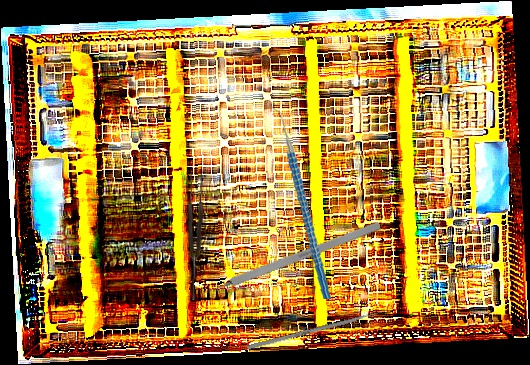Chopper: (248, 104, 348, 300)
Hook Surgical: (195, 221, 382, 300)
Pusher: (246, 306, 394, 351)
Tissue Forceps: (184, 172, 205, 301)
